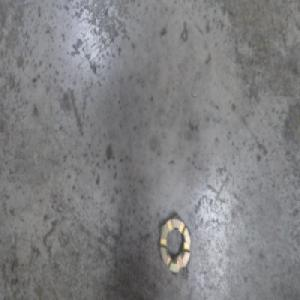Nut: (158, 212, 191, 276)
